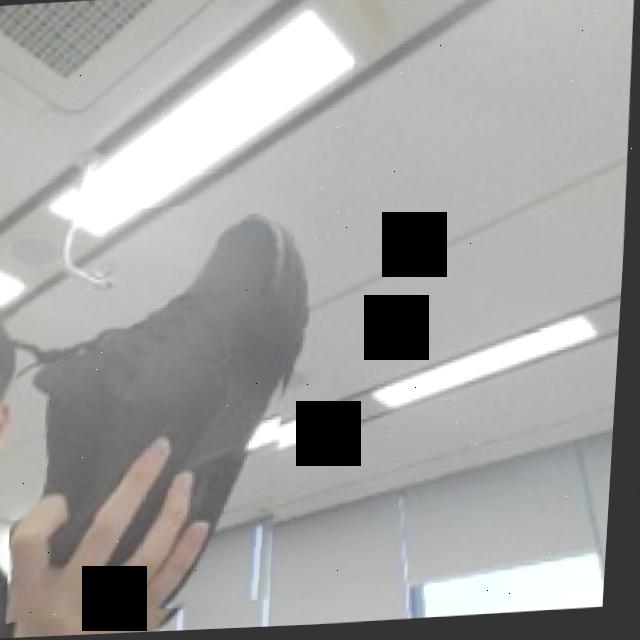shoe: (6, 201, 306, 623)
